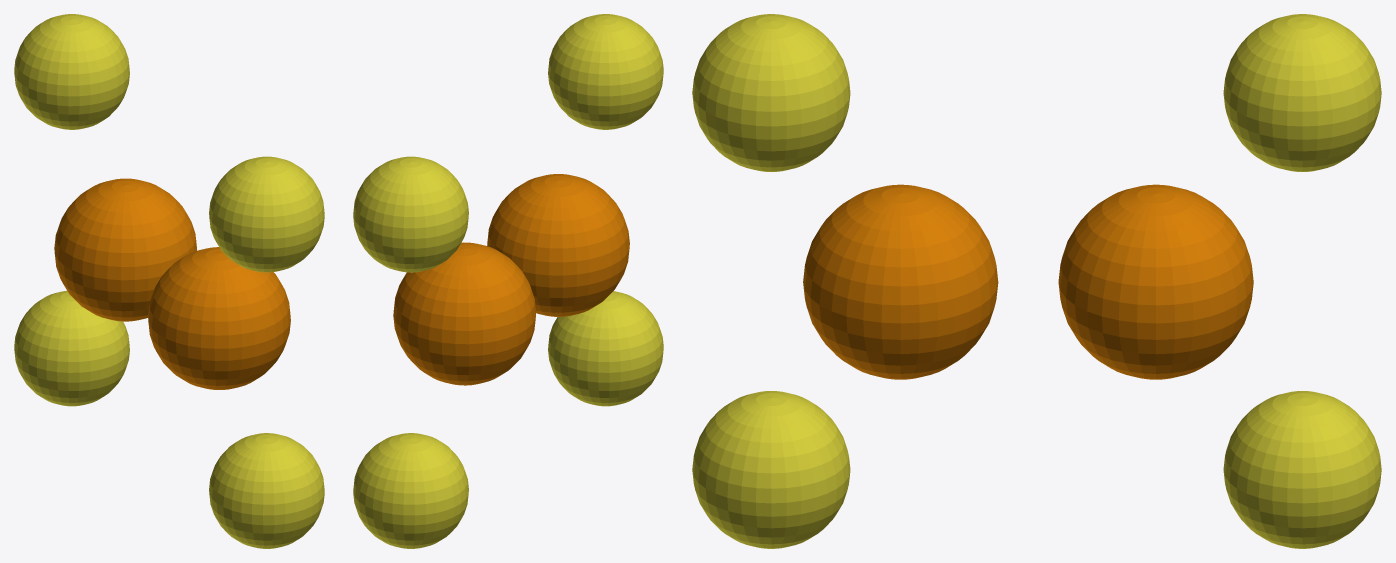
The picture shows the model from 3 angles, left to right: view 1: azimuth 30°, elevation 25°; view 2: azimuth 150°, elevation 25°; view 3: azimuth 270°, elevation 25°; orthographic projection. The views are drawn at different scales.
Visible parts, largest first — view 1: c1, c2, h1, h2, h4, h3; view 2: c2, c1, h4, h3, h1, h2; view 3: c2, c1, h1, h2, h3, h4.
Part boxes in pixels (x1=…): c1: x1=148, y1=247, x2=290, y2=389; c2: x1=54, y1=178, x2=196, y2=321; h1: x1=209, y1=156, x2=324, y2=272; h2: x1=209, y1=433, x2=324, y2=548; h4: x1=14, y1=14, x2=129, y2=129; h3: x1=14, y1=290, x2=129, y2=406; c2: x1=393, y1=242, x2=536, y2=385; c1: x1=487, y1=174, x2=629, y2=316; h4: x1=353, y1=156, x2=468, y2=272; h3: x1=353, y1=433, x2=468, y2=548; h1: x1=548, y1=14, x2=663, y2=129; h2: x1=548, y1=291, x2=663, y2=406; c2: x1=1058, y1=184, x2=1253, y2=379; c1: x1=803, y1=184, x2=998, y2=379; h1: x1=692, y1=14, x2=850, y2=171; h2: x1=692, y1=391, x2=850, y2=548; h3: x1=1223, y1=391, x2=1381, y2=548; h4: x1=1223, y1=14, x2=1381, y2=171.
Bounding box in the file's own units: 200 × 588 × 706.
